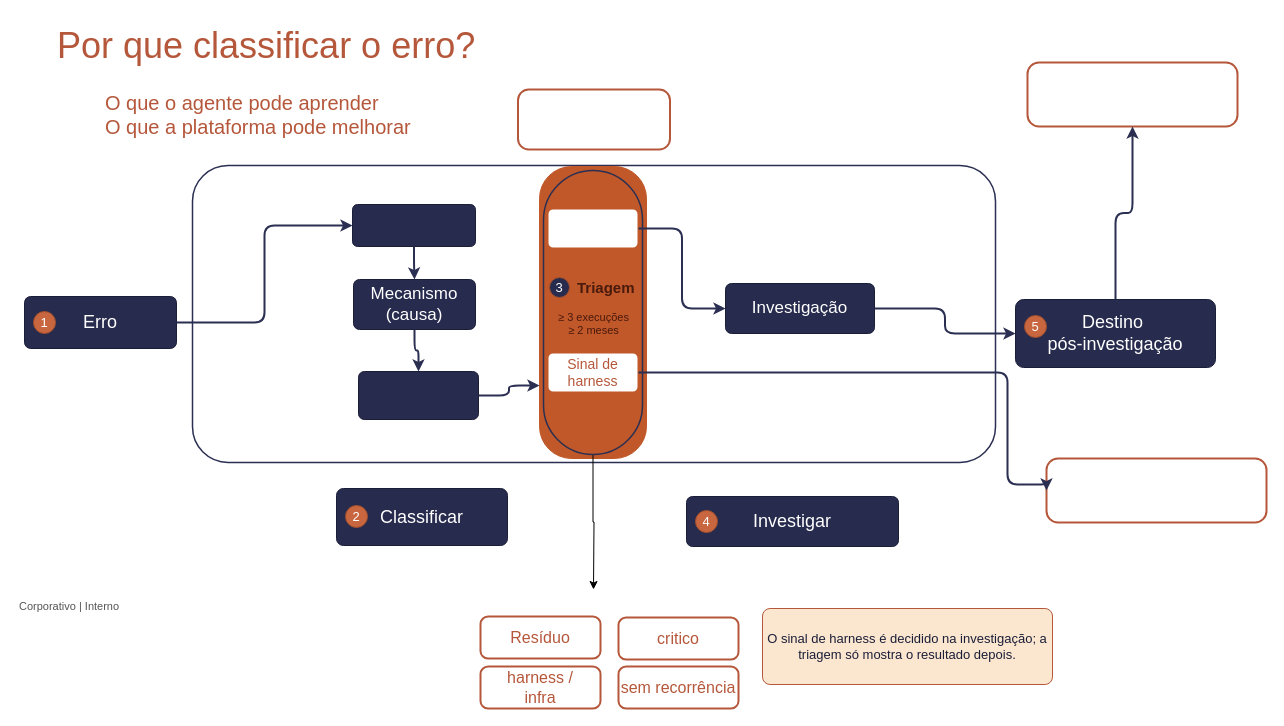
Some shapes in this 1284 by 726 pixel diagram are drawn without their labels. The centre of each missing label's shape, as x and y in pixels:
"Assinatura" belongs at [414,225].
"Destino pré-investigação" belongs at [593,119].
"Memória candidata" belongs at [592,228].
"Memória revisada o que o agente pode aprender" belongs at [1132,94].
"Sinal de harness registrado o que a plataforma pode melhorar" belongs at [1156,490].
"Unidade (lição)" belongs at [418,395].
